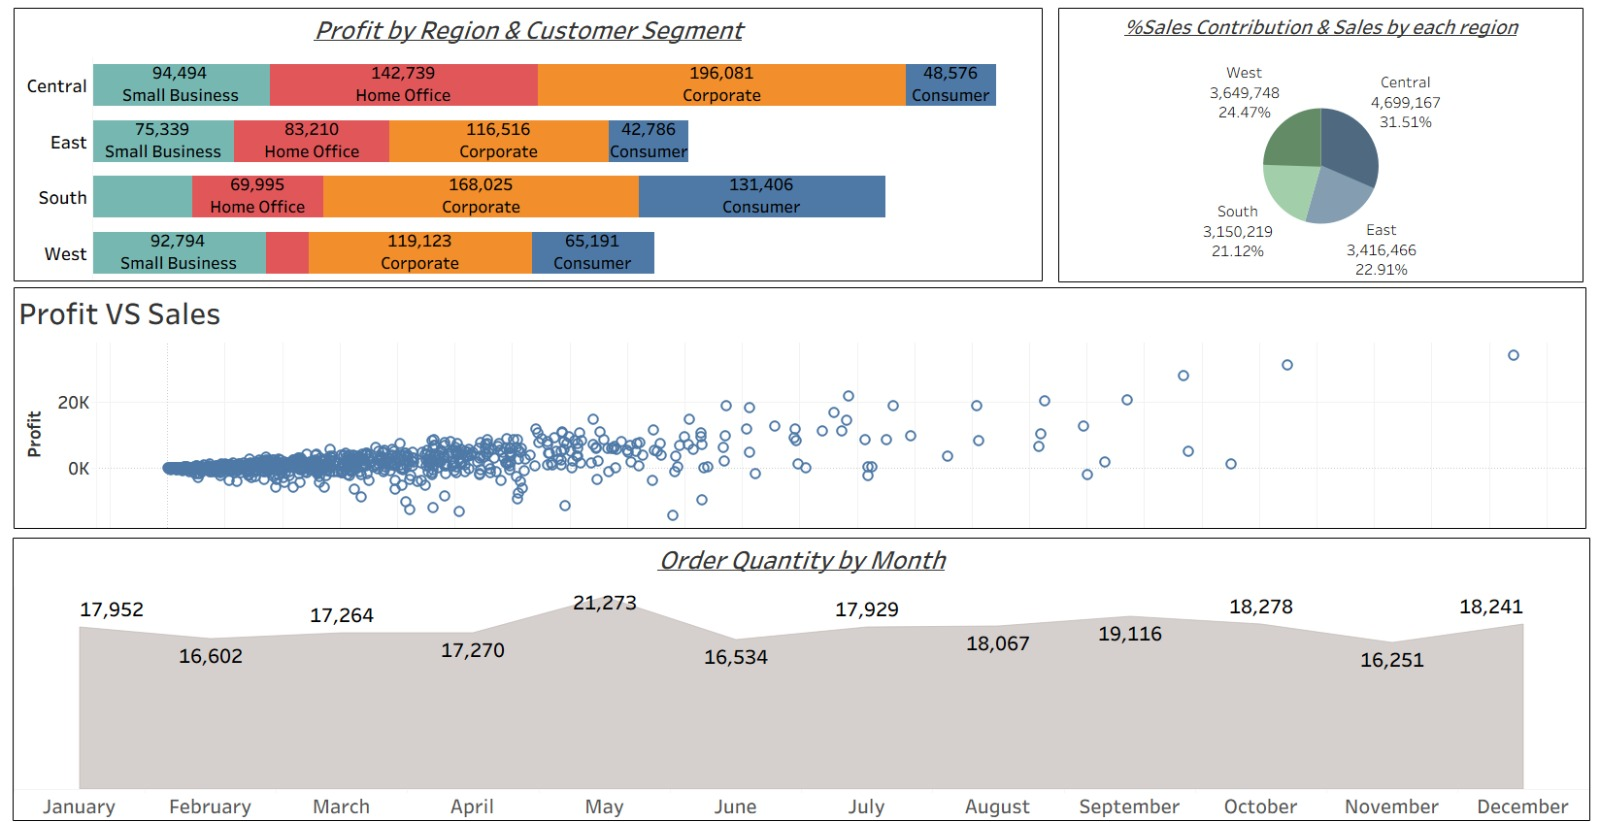

The page's visual inventory and layout, read from the dashboard file:
{"tool":"tableau","page":{"name":"Dashboard 1","canvas":[1000,1000],"units":"permille","ordinal":0},"visuals":[{"type":"worksheet","title":"Bar Chart","mark":"Automatic","rows":["Region"],"cols":["Profit"],"box":[9.1,10.6,642.4,331]},{"type":"worksheet","title":"Pie Chart","mark":"Pie","box":[661.2,10.6,327.9,332.2]},{"type":"worksheet","title":"Scatter Plot","mark":"Automatic","rows":["Profit"],"cols":["Sales"],"box":[9.1,348.6,981.8,292.2]},{"type":"worksheet","title":"Line Chart","mark":"Area","rows":["Order Quantity"],"cols":["Order Date"],"box":[8.5,651.4,984.9,342.7]}]}

Visuals, with their boxes on the dashboard's canvas, which has no fixed pixel size, in thousandths of its width and height (x1, y1, x2, y2). These are canvas units, not pixel positions in the 1600x822 screenshot, which may show the page scaled, cropped or inside an application window:
"Bar Chart" worksheet: l=9, t=11, r=652, b=342
"Pie Chart" worksheet (Pie marks): l=661, t=11, r=989, b=343
"Scatter Plot" worksheet: l=9, t=349, r=991, b=641
"Line Chart" worksheet (Area marks): l=8, t=651, r=993, b=994
